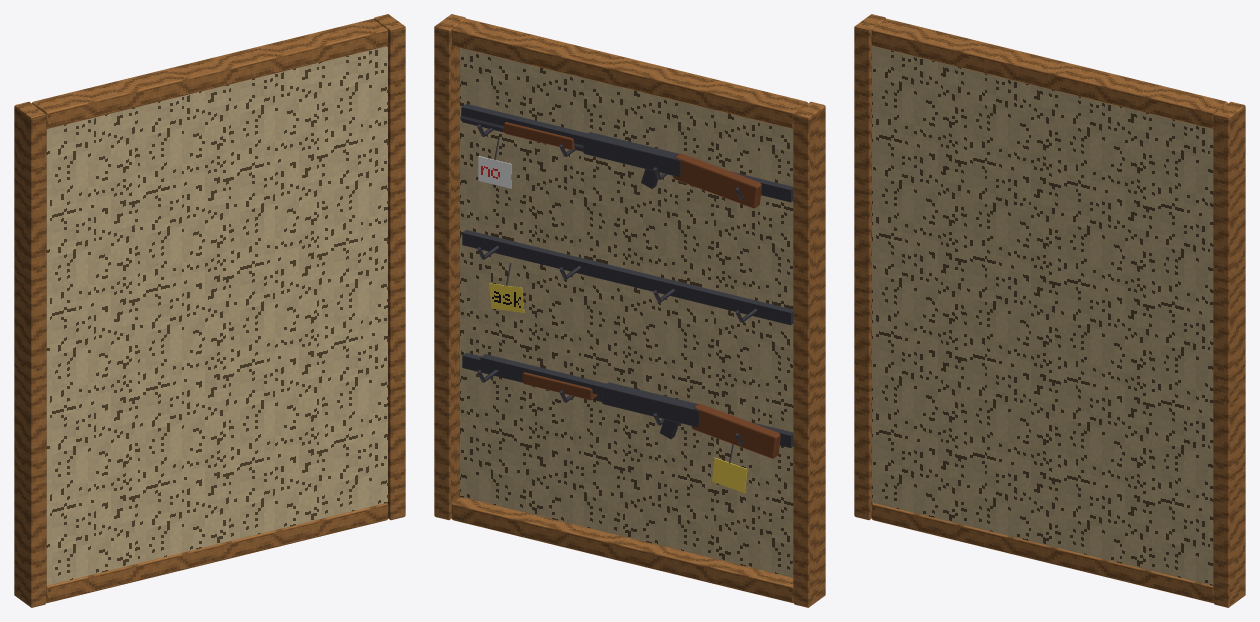
File: s_gun_rack.glb
3 renders of one model, left to right at view 1: azimuth 30°, elevation 25°; view 2: azimuth 150°, elevation 25°; view 3: azimuth 330°, elevation 25°, orthographic.
Visible parts, largest first — view 1: s_gun_rack_mesh; view 2: s_gun_rack_mesh; view 3: s_gun_rack_mesh.
Part boxes in pixels (x1,y1,x2,y2): s_gun_rack_mesh: (14,14,405,607); s_gun_rack_mesh: (434,14,825,607); s_gun_rack_mesh: (854,14,1245,607).
Size of what is drawn, in the model's own units: 1.6 by 2 by 0.2305.
5 materials, 5 textured.
